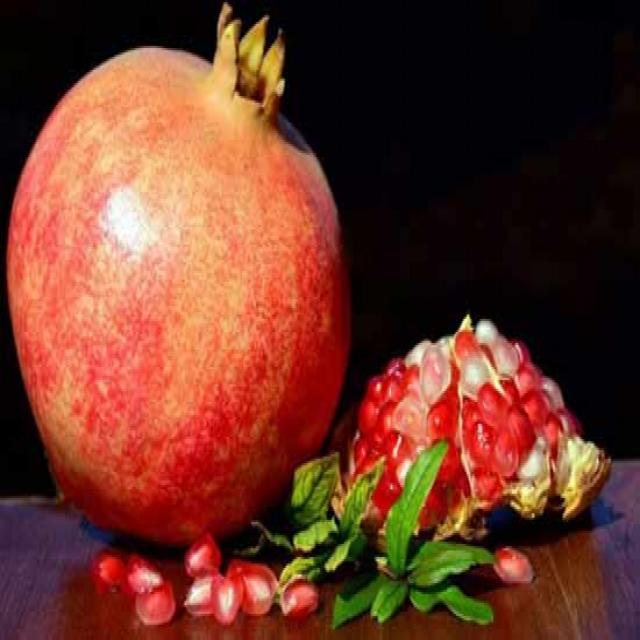pomegranate: (8, 2, 350, 546)
